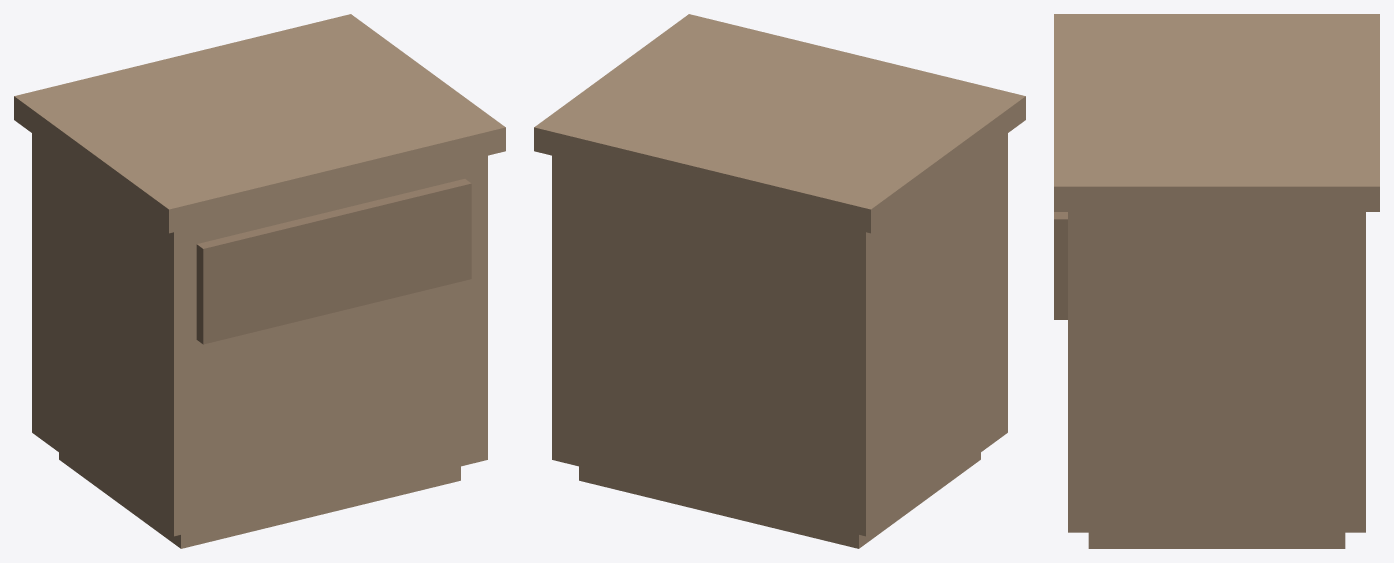
File: nightstand.gltf
3 views of the same model, side by side, from view 1: azimuth 30°, elevation 25°; view 2: azimuth 150°, elevation 25°; view 3: azimuth 270°, elevation 25° (orthographic). The views are drawn at different scales.
Visible parts, largest first — view 1: Carcass, Top, DrawerFront, Plinth; view 2: Carcass, Top, Plinth; view 3: Carcass, Top, Plinth, DrawerFront.
Part boxes in pixels (x1=…): Carcass: x1=32, y1=133, x2=487, y2=536; Top: x1=14, y1=14, x2=505, y2=233; DrawerFront: x1=196, y1=179, x2=471, y2=344; Plinth: x1=59, y1=452, x2=460, y2=548; Carcass: x1=552, y1=133, x2=1007, y2=536; Top: x1=534, y1=14, x2=1025, y2=233; Plinth: x1=579, y1=452, x2=980, y2=548; Carcass: x1=1068, y1=212, x2=1365, y2=532; Top: x1=1054, y1=14, x2=1379, y2=211; Plinth: x1=1088, y1=532, x2=1345, y2=548; DrawerFront: x1=1054, y1=212, x2=1067, y2=319.
Size of the model in its own units: 0.0369 by 0.0375 by 0.0294.
